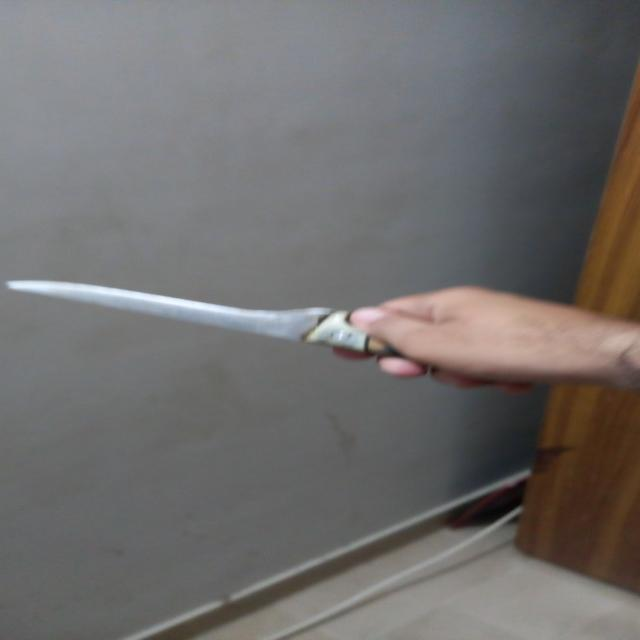Knife: (0, 273, 640, 370)
